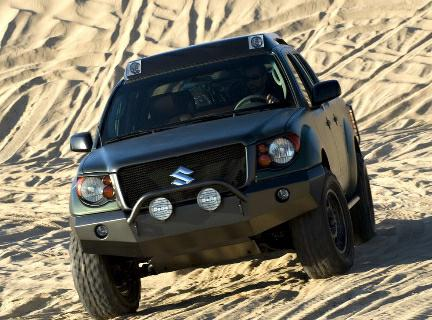铃木-Equator: (62, 28, 381, 320)
